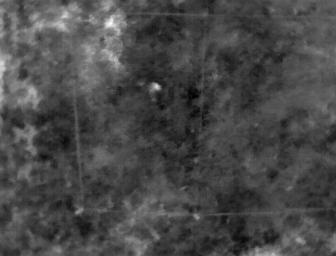landmine: (151, 81, 162, 94)
